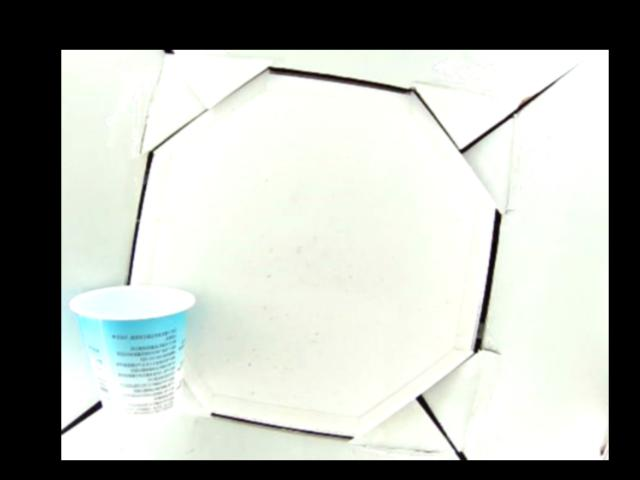Cup: (69, 283, 195, 427)
